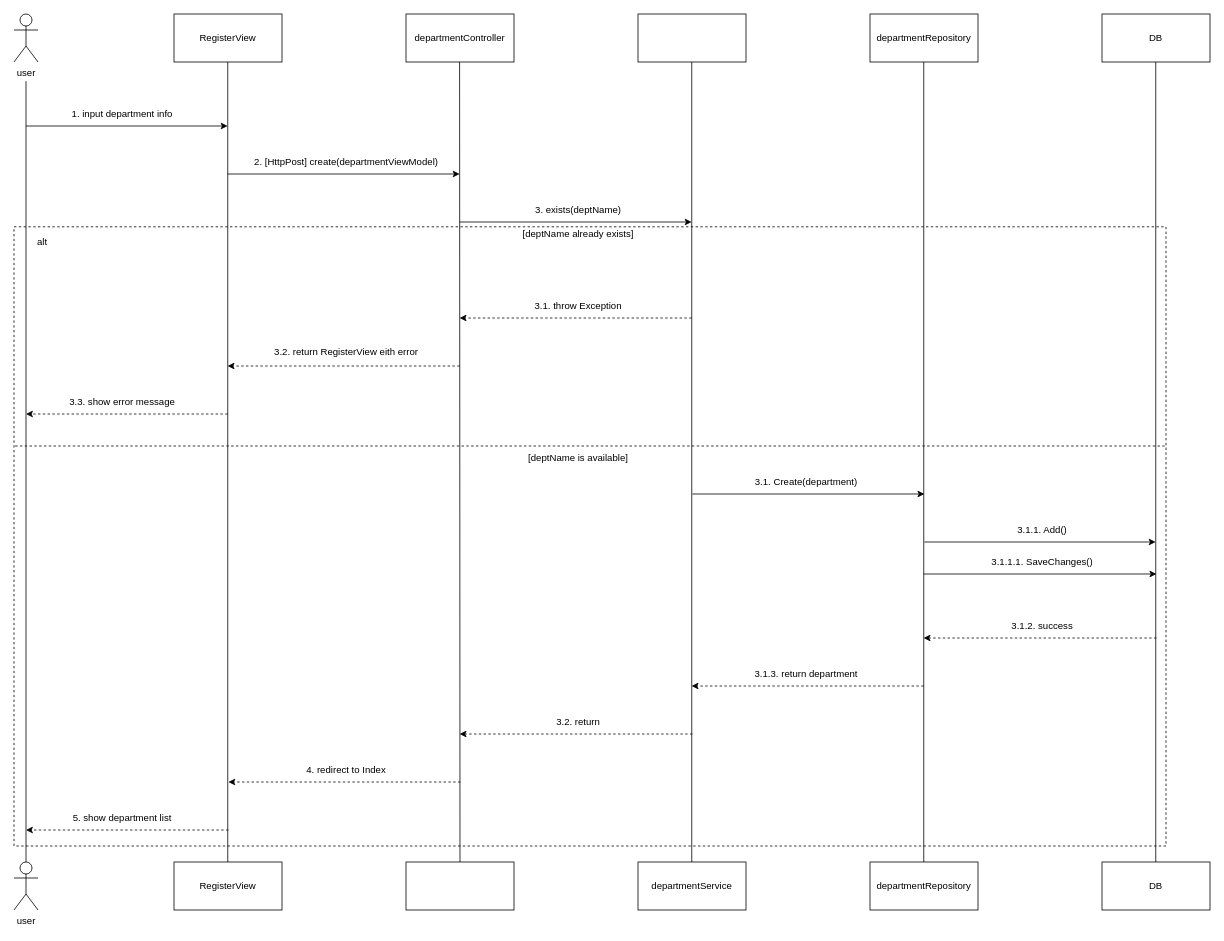
Some shapes in this 1224 by 941 pixel diagram are drawn without their labels. Here are the shapes that lost their labels. From the top down, the centre of each, then its label:
At (691,37): "departmentService".
At (459,885): "department Controller".
